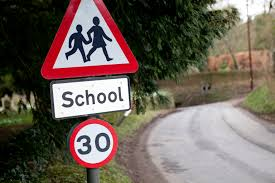Speed_limit_30km: (68, 119, 119, 168)
